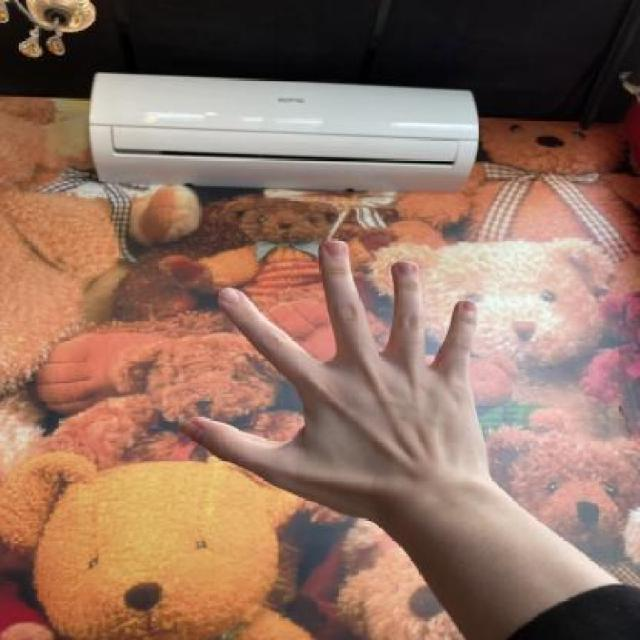hand: (180, 234, 518, 546)
